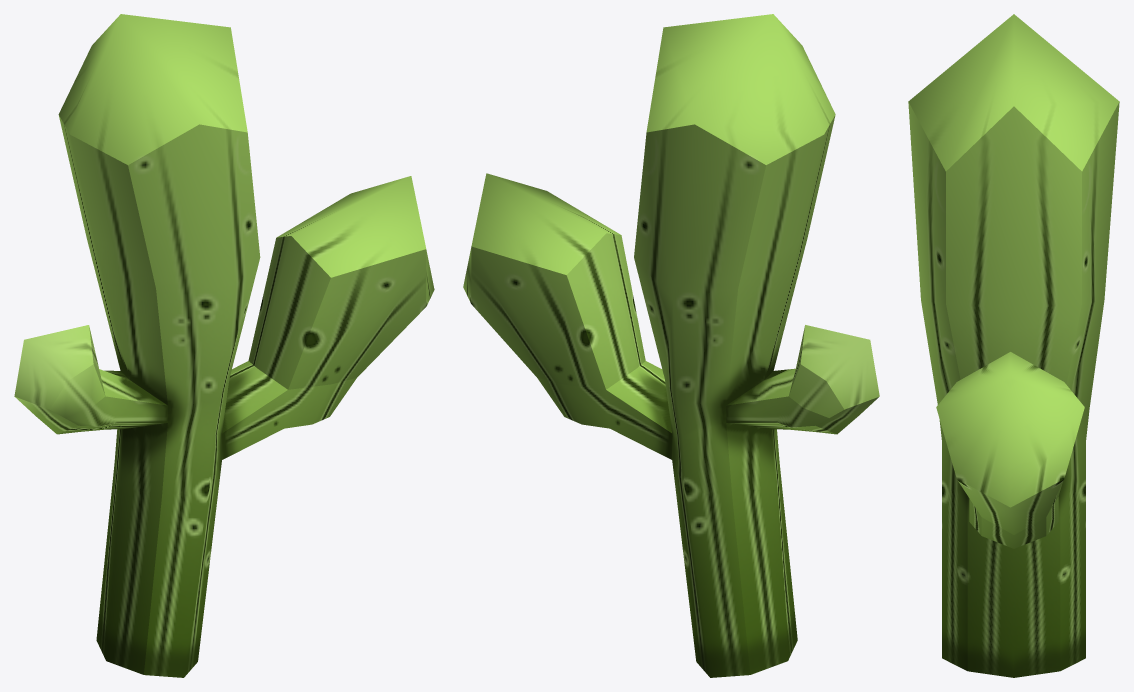
File: Cactus04.fbx
3 renders of one model, left to right at view 1: azimuth 30°, elevation 25°; view 2: azimuth 150°, elevation 25°; view 3: azimuth 270°, elevation 25°, orthographic.
Parts seen in each view (by area): view 1: Cactus04; view 2: Cactus04; view 3: Cactus04.
Part boxes in pixels (box(x1,y1,x2,y2)): Cactus04: box(14, 14, 434, 677); Cactus04: box(463, 14, 879, 677); Cactus04: box(908, 14, 1119, 677).
Bounding box in the file's own units: 5.1 × 7.49 × 2.27.
